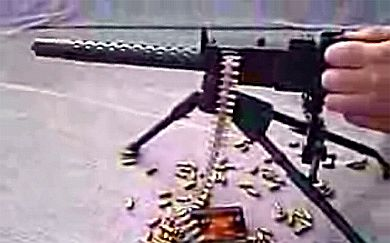rifle: (20, 23, 319, 123)
rifle in hand: (25, 16, 384, 150)
